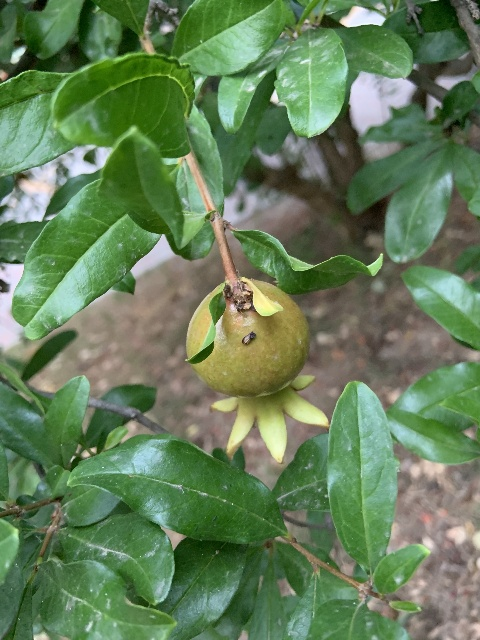mid-growth: (187, 280, 328, 464)
